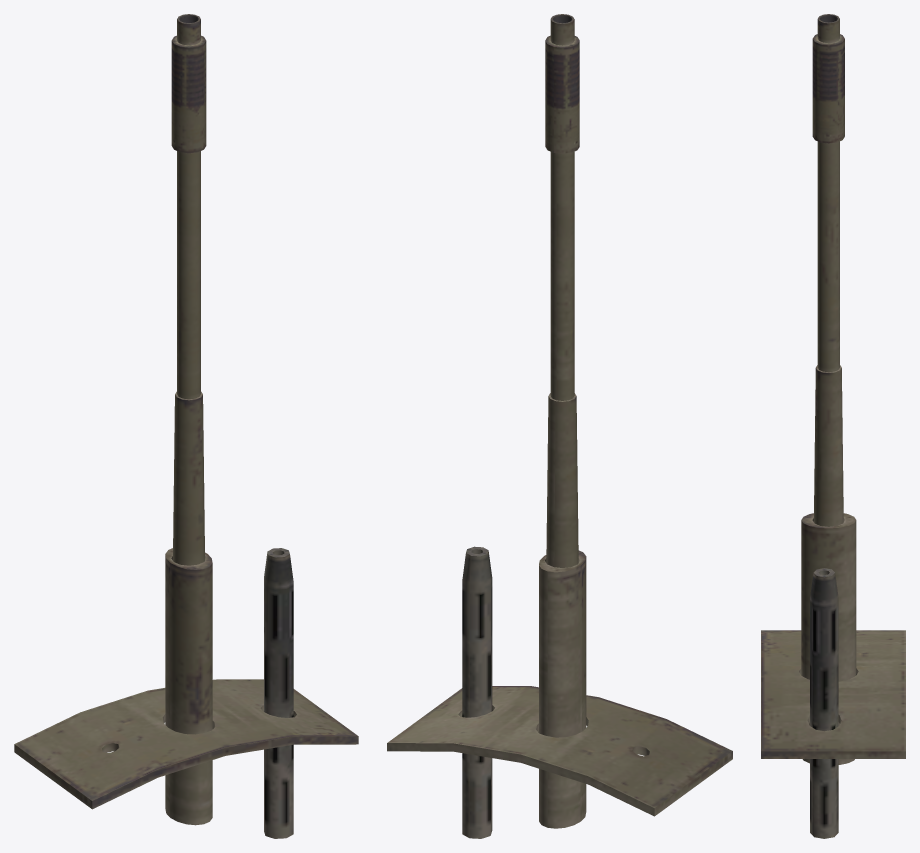
File: Gun_01.glb
3 views of the same model, side by side, from view 1: azimuth 30°, elevation 25°; view 2: azimuth 150°, elevation 25°; view 3: azimuth 270°, elevation 25° (orthographic). The views are drawn at different scales.
Parts seen in each view (by area): view 1: set_0_group_0; view 2: set_0_group_0; view 3: set_0_group_0.
Boxes of the visible parts, left/top/right/bottom form: set_0_group_0: left=14, top=14, right=358, bottom=838; set_0_group_0: left=387, top=14, right=732, bottom=838; set_0_group_0: left=761, top=14, right=905, bottom=838.
Size of the model in its own units: 0.6105 by 1.83 by 0.3095.
1 material, 1 textured.
